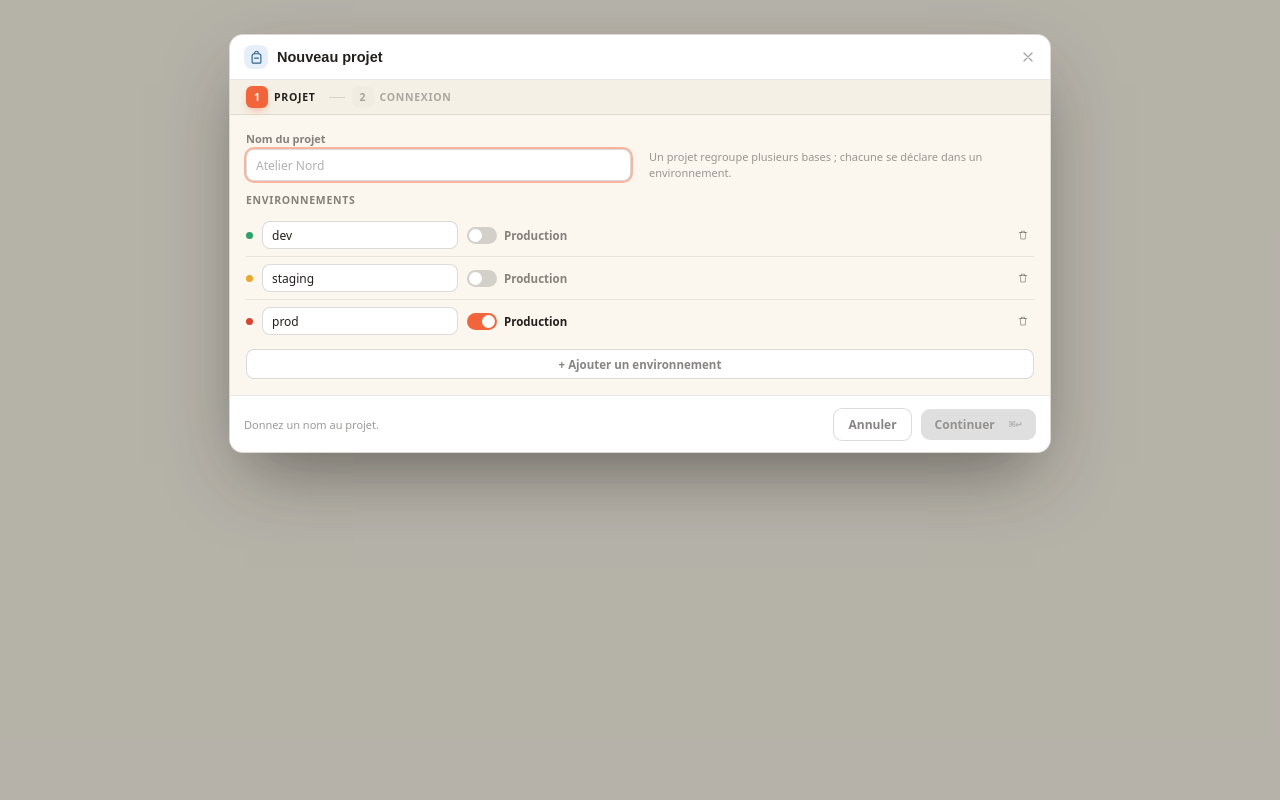
Test: le dernier environnement ne se retire pas, et le bouton dit pourquoi
Click the button named "Retirer prod" at [1023, 321], box [1012,310,1034,332]
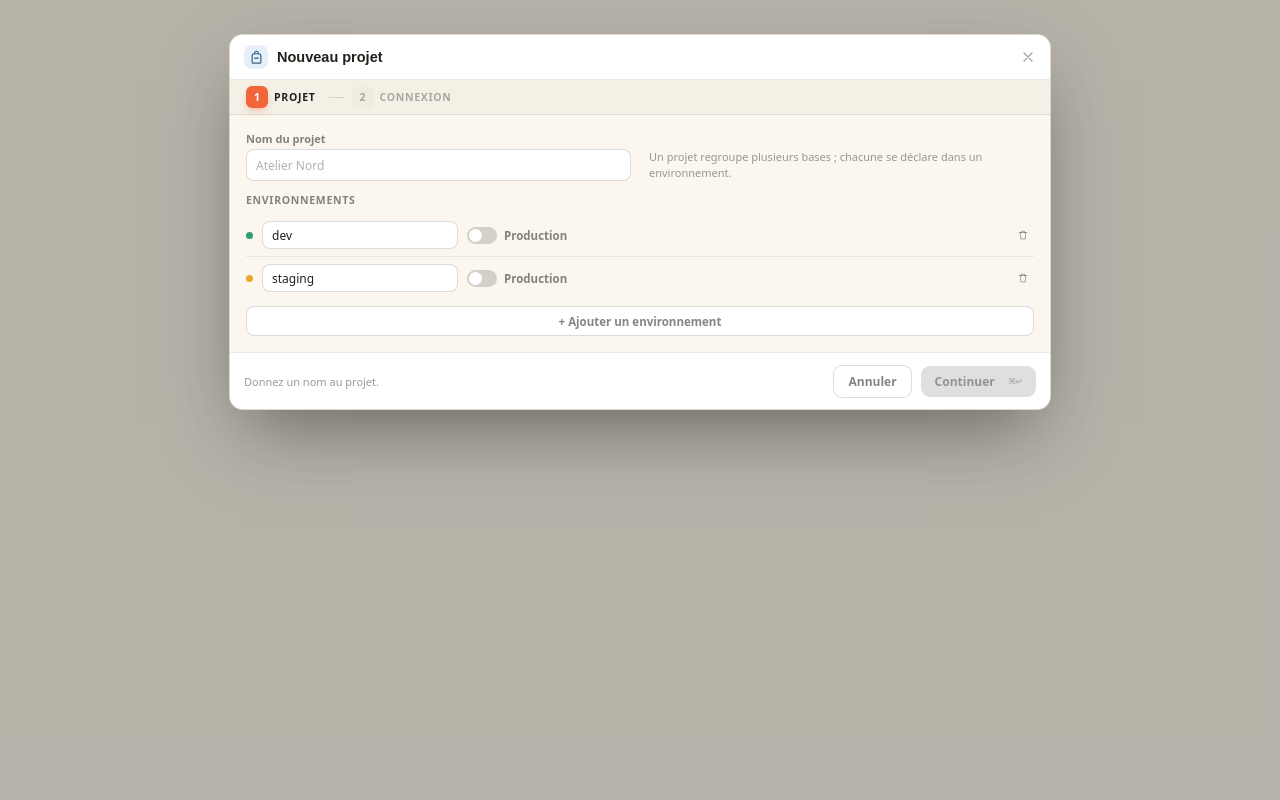
Click the button named "Retirer staging" at [1023, 278], box [1012,267,1034,289]
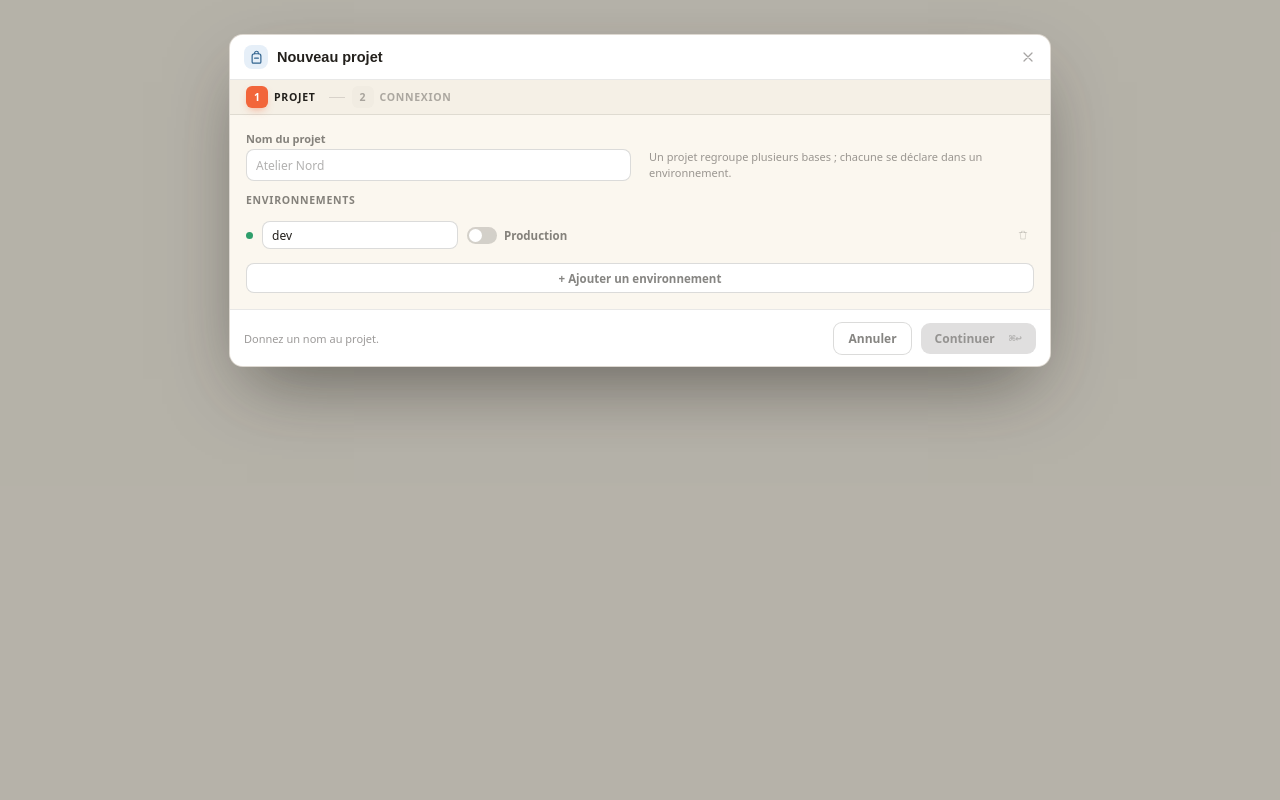
Now the button named "Retirer dev" is disabled, box [1012,224,1034,246]
